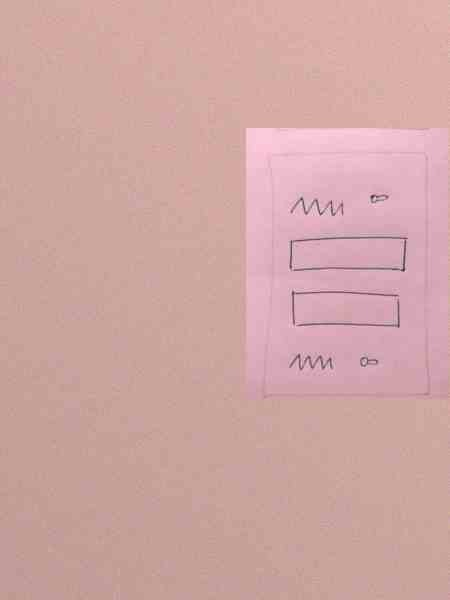switch: (353, 352, 385, 372), (365, 190, 395, 207)
text: (285, 193, 351, 223), (286, 350, 340, 375)
text_input: (284, 286, 409, 336), (284, 234, 414, 277)
